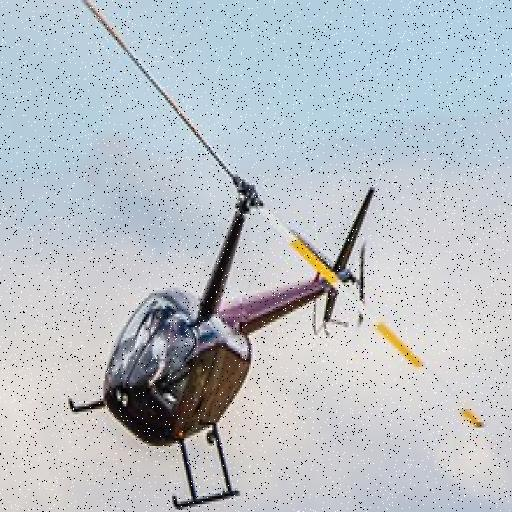helicopter: (68, 1, 485, 508)
